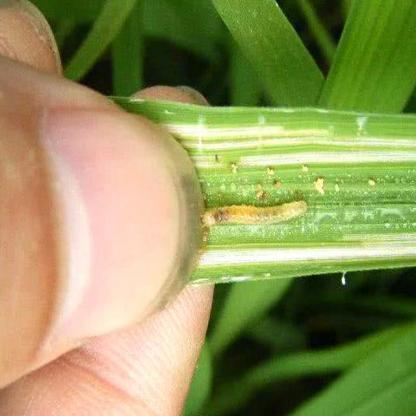leaf-folder: (196, 186, 316, 244)
